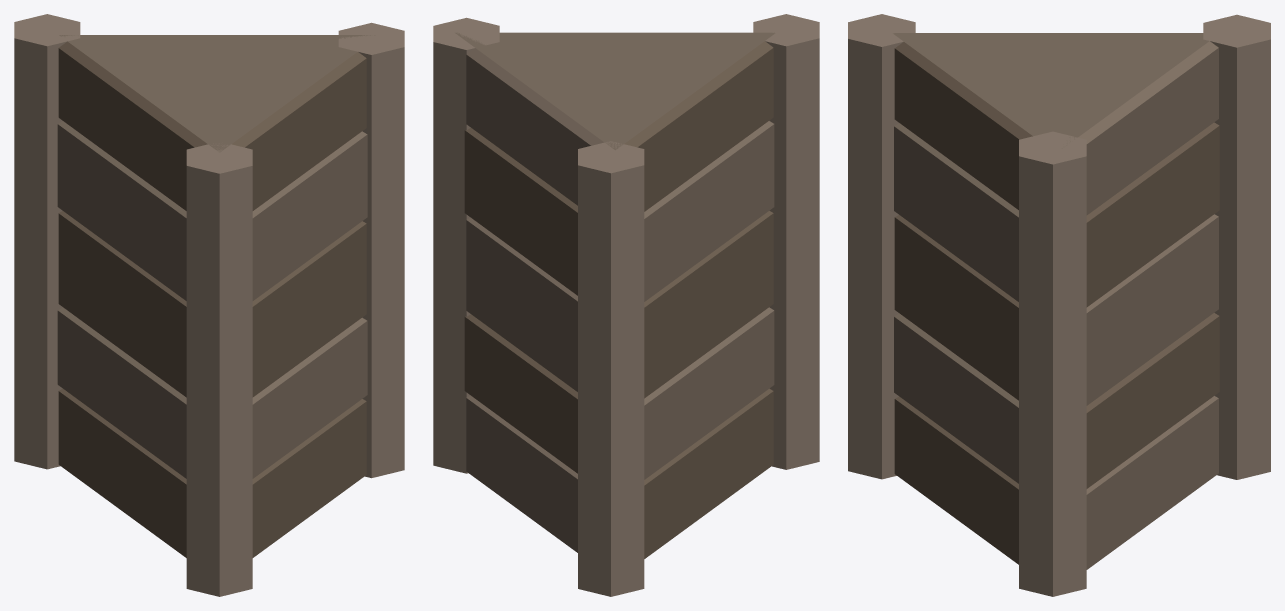
The model's file is _PROPS_OSNOVA_01.fbx.
3 views of the same model, side by side, from view 1: azimuth 30°, elevation 25°; view 2: azimuth 150°, elevation 25°; view 3: azimuth 270°, elevation 25° (orthographic). The views are drawn at different scales.
Visible parts, largest first — view 1: PROPS_OSNOVA_01; view 2: PROPS_OSNOVA_01; view 3: PROPS_OSNOVA_01.
Boxes of the visible parts, x1,y1,x2,y2 form: PROPS_OSNOVA_01: [14, 14, 404, 596]; PROPS_OSNOVA_01: [433, 14, 819, 596]; PROPS_OSNOVA_01: [848, 14, 1270, 596].
Bounding box in the file's own units: 397 × 532 × 471.
